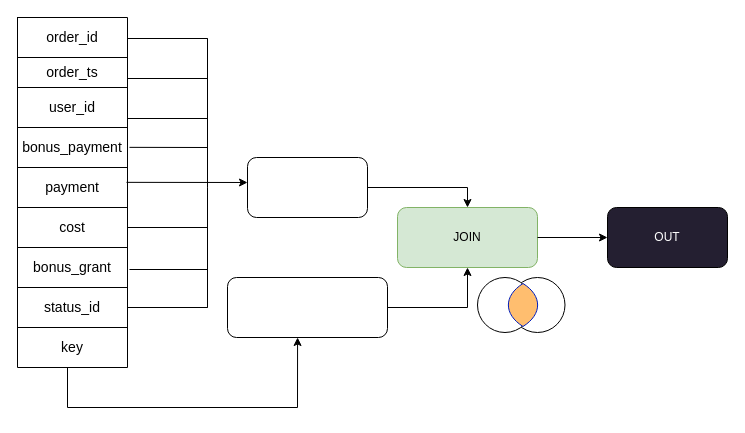
This 745x433 diagram has some shape labels left out. Here are the shapes that lost their labels. From the top down, the box of each, then its label:
(246, 156, 368, 218): production.orders
(226, 276, 388, 338): production.orderstatuses
